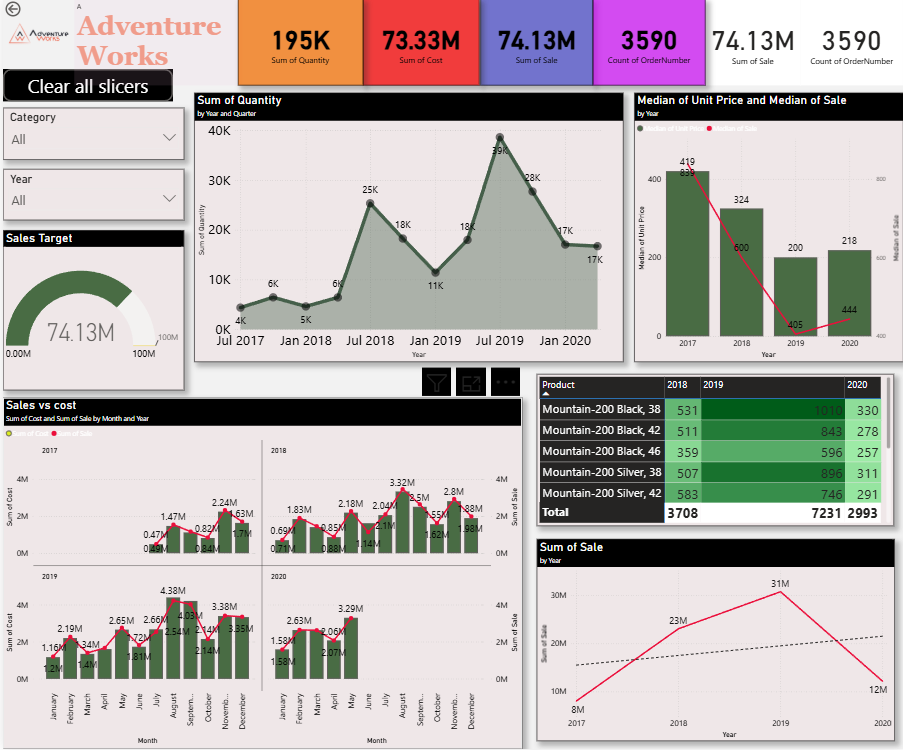

Layout of this report page (visuals, bound fields, positions):
{"tool":"powerbi","page":{"name":"Page 1","canvas":[1800,1500],"ordinal":0},"visuals":[{"type":"textbox","box":[141.3,0,336.2,172.5],"z":0,"group":"g1"},{"type":"card","fields":{"Values":["Sum(Sales.Sale)"]},"box":[955,0,225,172.5],"z":0,"group":"g2"},{"type":"lineClusteredColumnComboChart","title":"Sales vs cost","fields":{"Category":["Sales.Order Date.Variation.Date Hierarchy.Month"],"Rows":["Sales.Order Date.Variation.Date Hierarchy.Year"],"Y":["Sum(Sales.Cost)"],"Y2":["Sum(Sales.Sale)"]},"box":[0,798,1038,702],"z":0},{"type":"actionButton","box":[0,0,100,40],"z":1000},{"type":"image","box":[0,0,142.5,137.5],"z":1000,"group":"g1"},{"type":"card","fields":{"Values":["Sum(Sales.Cost)"]},"box":[720,0,232.5,172.5],"z":1000,"group":"g2"},{"type":"card","fields":{"Values":["Sum(Sales.Quantity)"]},"box":[470,0,250,172.5],"z":2000,"group":"g2"},{"type":"pivotTable","fields":{"Columns":["Sales.Order Date.Variation.Date Hierarchy.Year"],"Rows":["Sales.Product"],"Values":["Sum(Sales.Quantity)"]},"box":[1068,750,714,304],"z":2000},{"type":"card","fields":{"Values":["Count(Sales.OrderNumber)"]},"box":[1180,0,225,172.5],"z":3000,"group":"g2"},{"type":"lineChart","fields":{"Category":["Sales.Order Date.Variation.Date Hierarchy.Year","Sales.Order Date.Variation.Date Hierarchy.Quarter"],"Y":["Sum(Sales.Quantity)"]},"box":[382,188,858,538],"z":3000},{"type":"gauge","title":"Sales Target","fields":{"MaxValue":["Sales.Profit Gauge"],"TargetValue":["Sales.Profit Gauge"],"Y":["Sum(Sales.Sale)"]},"box":[0,462,362,320],"z":4000},{"type":"card","fields":{"Values":["Count(Sales.OrderNumber)"]},"box":[1595,0,205,172.5],"z":5000},{"type":"card","fields":{"Values":["Sum(Sales.Sale)"]},"box":[1405,0,190,172.5],"z":6000},{"type":"lineChart","fields":{"Category":["Sales.Order Date.Variation.Date Hierarchy.Year"],"Y":["Sum(Sales.Sale)"]},"box":[1068,1080,716,404],"z":7000},{"type":"lineClusteredColumnComboChart","fields":{"Category":["Sales.Order Date.Variation.Date Hierarchy.Year"],"Y":["Median(Sales.Unit Price)"],"Y2":["Median(Sales.Sale)"]},"box":[1262,188,538,538],"z":8000},{"type":"actionButton","box":[0,140,340,65],"z":9000},{"type":"slicer","fields":{"Values":["Sales.Category"]},"box":[0,218,362,104],"z":10000},{"type":"slicer","fields":{"Values":["Sales.Order Date.Variation.Date Hierarchy.Year"]},"box":[0,340,362,102],"z":11000},{"type":"group","id":"g1","title":"Group 1","box":[0,0,477.5,172.5],"z":12000},{"type":"group","id":"g2","title":"Group 2","box":[470,0,935,172.5],"z":13000}]}

Visuals, with their boxes on the page's 1800x1500 design canvas (x1, y1, x2, y2). These are canvas units, not pixel positions in the 903x750 screenshot, which may show the page scaled, cropped or inside an application window:
textbox: BBox(141, 0, 478, 172)
card - Sum(Sales.Sale): BBox(955, 0, 1180, 172)
"Sales vs cost" lineClusteredColumnComboChart: BBox(0, 798, 1038, 1500)
actionButton: BBox(0, 0, 100, 40)
image: BBox(0, 0, 142, 138)
card - Sum(Sales.Cost): BBox(720, 0, 952, 172)
card - Sum(Sales.Quantity): BBox(470, 0, 720, 172)
pivotTable - Sales.Order Date.Variation.Date Hierarchy.Year x Sales.Product: BBox(1068, 750, 1782, 1054)
card - Count(Sales.OrderNumber): BBox(1180, 0, 1405, 172)
lineChart - Sales.Order Date.Variation.Date Hierarchy.Year x Sales.Order Date.Variation.Date Hierarchy.Quarter: BBox(382, 188, 1240, 726)
"Sales Target" gauge: BBox(0, 462, 362, 782)
card - Count(Sales.OrderNumber): BBox(1595, 0, 1800, 172)
card - Sum(Sales.Sale): BBox(1405, 0, 1595, 172)
lineChart - Sales.Order Date.Variation.Date Hierarchy.Year x Sum(Sales.Sale): BBox(1068, 1080, 1784, 1484)
lineClusteredColumnComboChart - Sales.Order Date.Variation.Date Hierarchy.Year x Median(Sales.Unit Price): BBox(1262, 188, 1800, 726)
actionButton: BBox(0, 140, 340, 205)
slicer - Sales.Category: BBox(0, 218, 362, 322)
slicer - Sales.Order Date.Variation.Date Hierarchy.Year: BBox(0, 340, 362, 442)
"Group 1" group: BBox(0, 0, 478, 172)
"Group 2" group: BBox(470, 0, 1405, 172)
